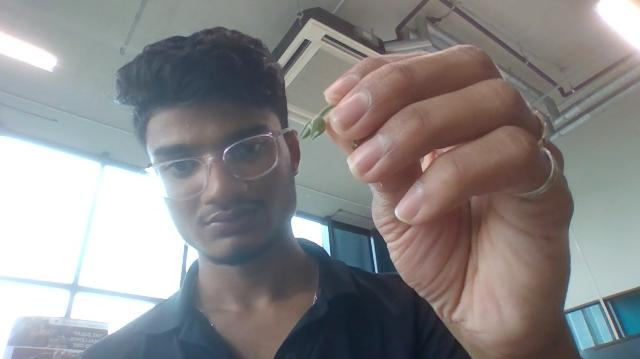Fruit Bud: (302, 115, 328, 140)
